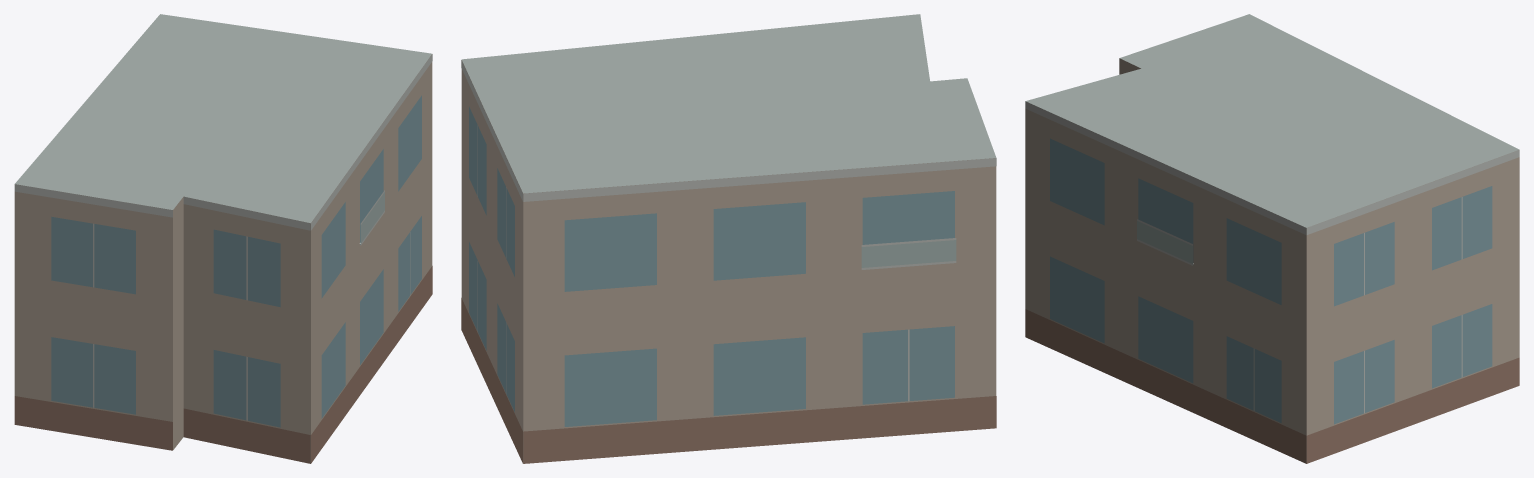
File: survey-upis-32941116.glb
3 views of the same model, side by side, from view 1: azimuth 30°, elevation 25°; view 2: azimuth 150°, elevation 25°; view 3: azimuth 270°, elevation 25° (orthographic). The views are drawn at different scales.
Parts seen in each view (by area): view 1: survey-upis-32941116.tmp; view 2: survey-upis-32941116.tmp; view 3: survey-upis-32941116.tmp.
Boxes of the visible parts, x1=… form: survey-upis-32941116.tmp: x1=14, y1=14, x2=432, y2=463; survey-upis-32941116.tmp: x1=461, y1=14, x2=996, y2=463; survey-upis-32941116.tmp: x1=1025, y1=14, x2=1519, y2=463.
Bounding box in the file's own units: 15.17 × 7.8 × 14.82.
